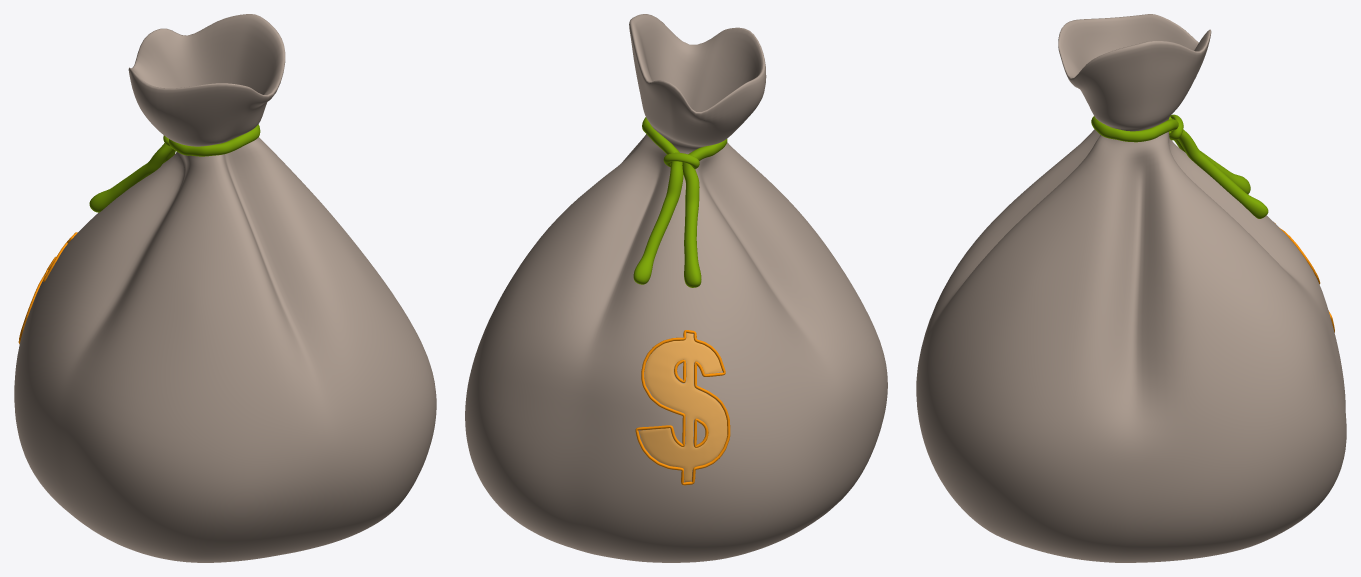
The picture shows the model from 3 angles, left to right: view 1: azimuth 30°, elevation 25°; view 2: azimuth 150°, elevation 25°; view 3: azimuth 270°, elevation 25°; orthographic projection.
Visible parts, largest first — view 1: Bag, rope; view 2: Bag, S, rope, S.001; view 3: Bag, rope.
Boxes of the visible parts, bbox=[...] form: Bag: bbox=[14, 14, 436, 562]; rope: bbox=[89, 124, 260, 212]; Bag: bbox=[465, 14, 887, 562]; S: bbox=[640, 333, 727, 481]; rope: bbox=[633, 117, 727, 287]; S.001: bbox=[635, 330, 730, 485]; Bag: bbox=[916, 14, 1346, 562]; rope: bbox=[1091, 114, 1268, 218].
Bounding box in the file's own units: 3.43 × 4.76 × 3.73.
